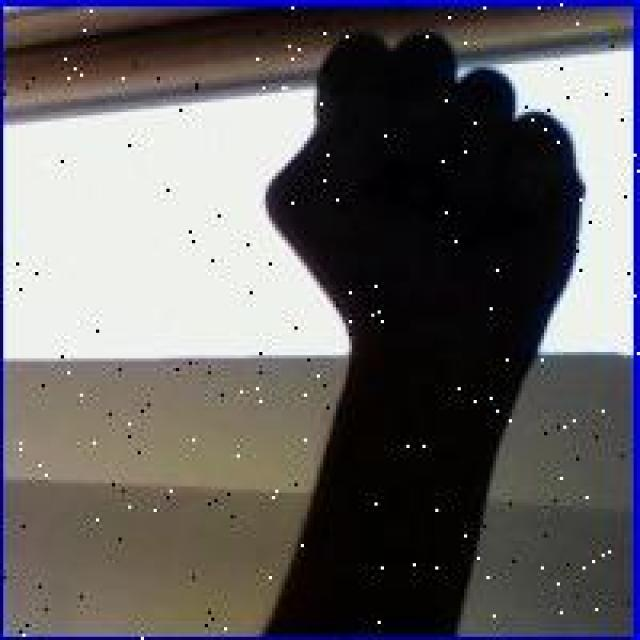S: (254, 19, 594, 371)
